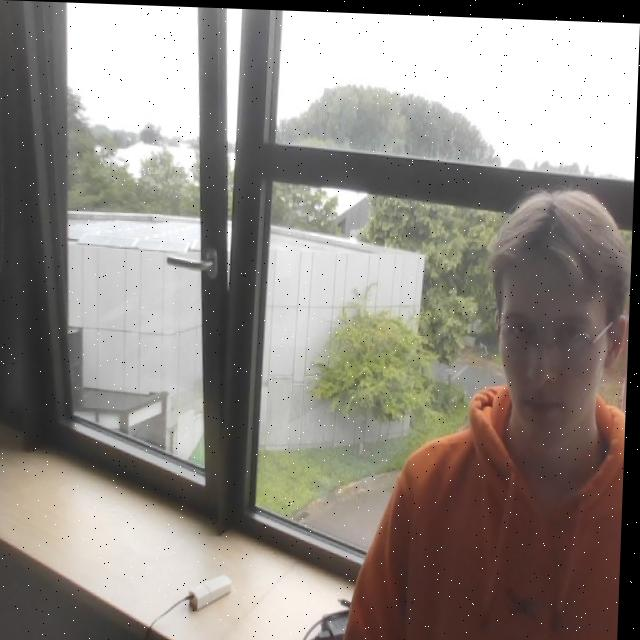opened_eye: (554, 327, 588, 347), (509, 318, 531, 344)
